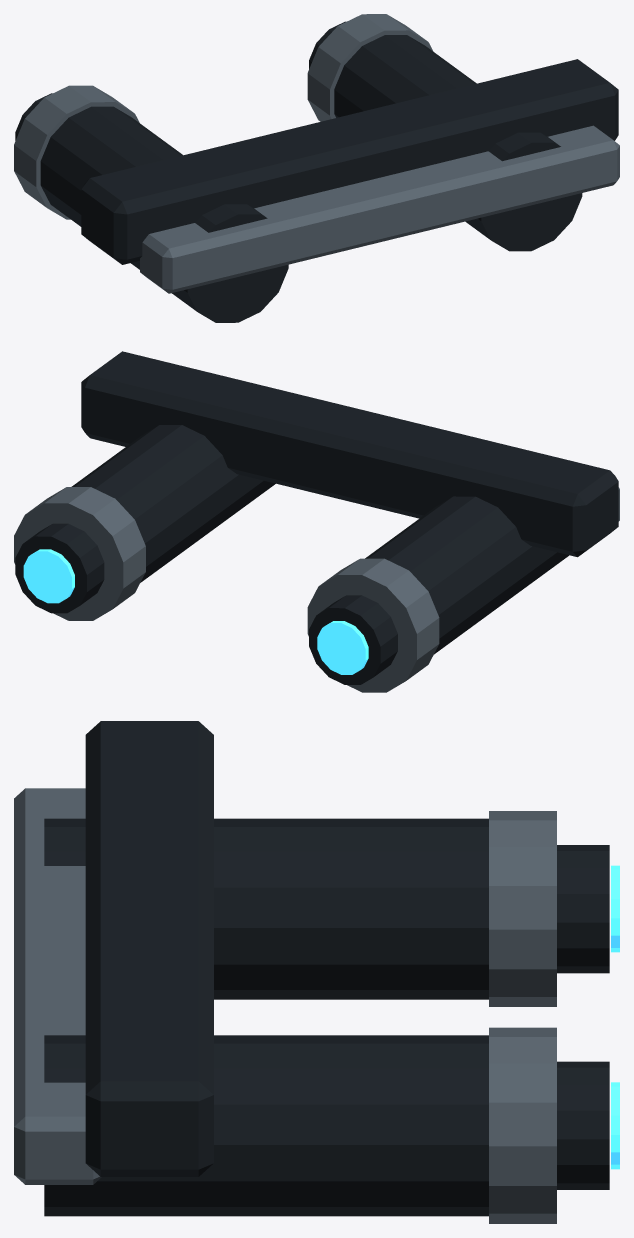
File: VehicleNitroBoost.glb
3 views of the same model, one above another, from view 1: azimuth 30°, elevation 25°; view 2: azimuth 150°, elevation 25°; view 3: azimuth 270°, elevation 25° (orthographic). The views are drawn at different scales.
Parts seen in each view (by area): view 1: FTF_Tool_VehicleNitroBoost_BlackBlue_2_4m_Static; view 2: FTF_Tool_VehicleNitroBoost_BlackBlue_2_4m_Static, NitroGlow_Right, NitroGlow_Left; view 3: FTF_Tool_VehicleNitroBoost_BlackBlue_2_4m_Static, NitroGlow_Left, NitroGlow_Right.
Part boxes in pixels (x1,y1,x2,y2): FTF_Tool_VehicleNitroBoost_BlackBlue_2_4m_Static: (14, 14, 619, 322); FTF_Tool_VehicleNitroBoost_BlackBlue_2_4m_Static: (14, 351, 619, 692); NitroGlow_Right: (23, 549, 74, 603); NitroGlow_Left: (317, 621, 368, 674); FTF_Tool_VehicleNitroBoost_BlackBlue_2_4m_Static: (14, 721, 609, 1223); NitroGlow_Left: (611, 865, 619, 952); NitroGlow_Right: (611, 1082, 619, 1169).
Size of the model in its own units: 2.34 by 0.6 by 1.61.
